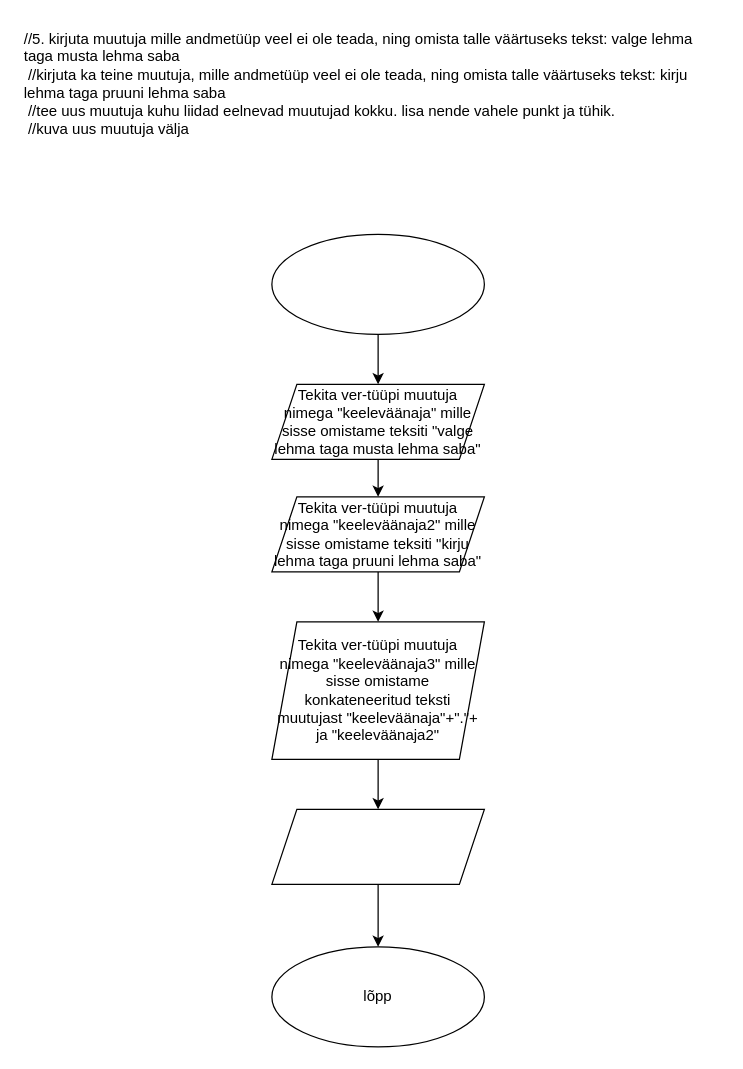
Some shapes in this 743 by 1069 pixel diagram are drawn without their labels. The box of each missing label's shape, as (x1, y1, x2, y2) in pixels:
Algus: (271, 233, 484, 334)
Kuva kasutajale muutuja "keeleväänaja3" välja: (271, 808, 484, 884)
